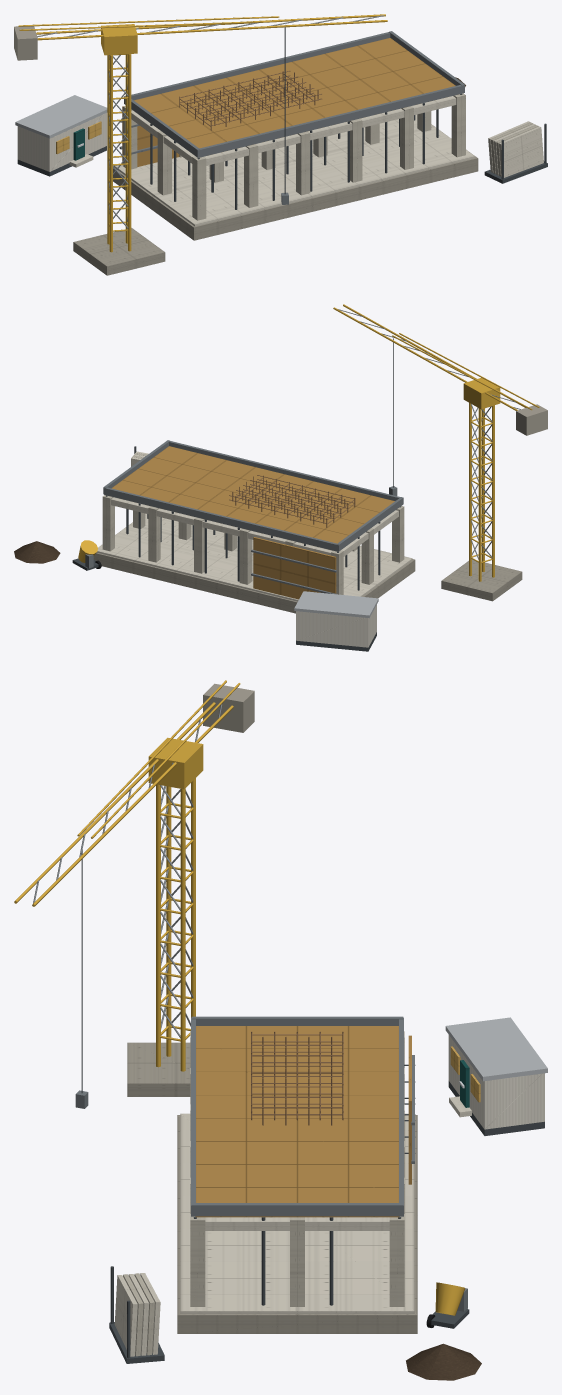
Rendered from fun-4-construction.glb.
3 views of the same model, one above another, from view 1: azimuth 30°, elevation 25°; view 2: azimuth 150°, elevation 25°; view 3: azimuth 270°, elevation 25° (orthographic). The views are drawn at different scales.
Bounding box in the file's own units: 35.91 × 15.55 × 21.97.
22 materials, 13 textured.
